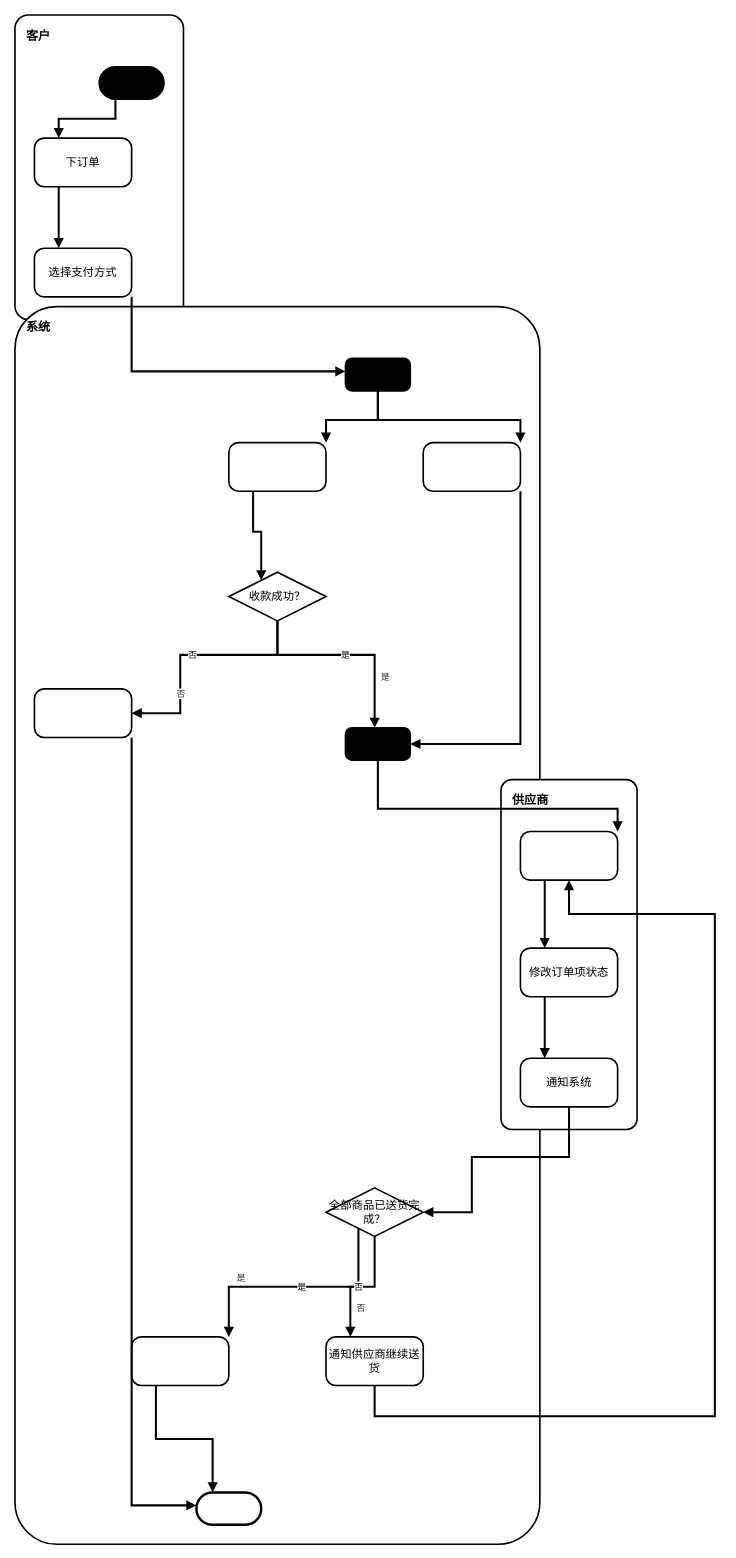
This 736x1558 diagram has some shape labels left out. Here are the shapes that lost their labels. From the top down, the centre of each, then its label:
the point at 277,466: 收款
the point at 471,466: 生成送货单
the point at 82,713: 取消订单
the point at 568,855: 开始送货
the point at 179,1361: 订单完成
